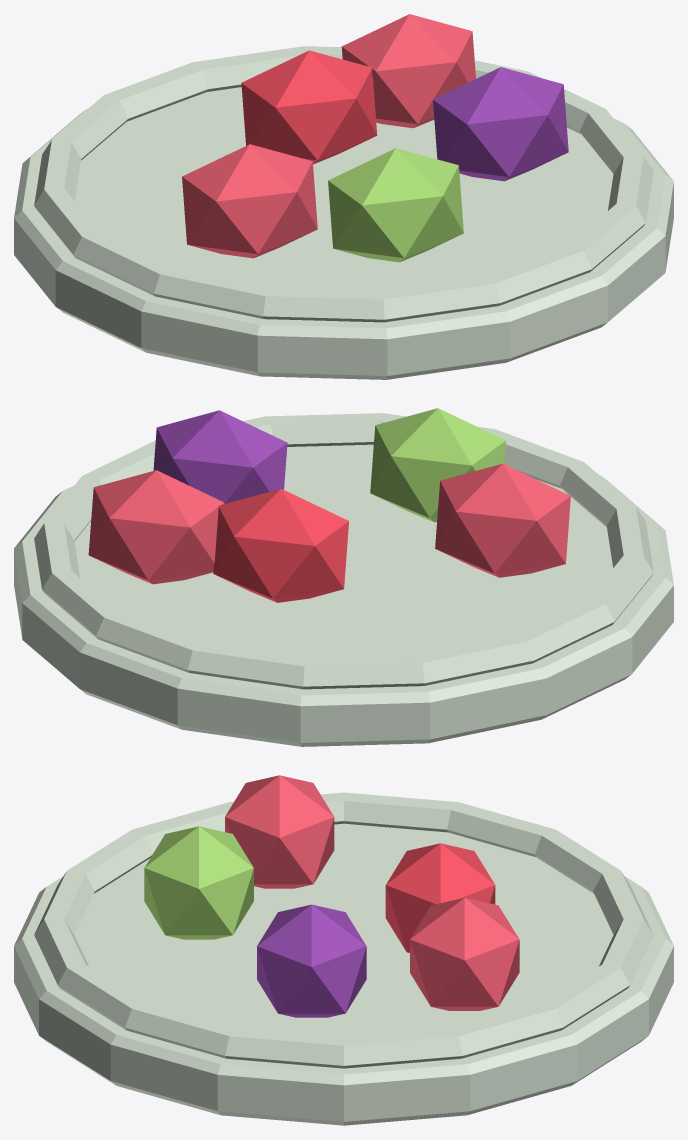
The model's file is summer_fruit_platter.glb.
3 renders of one model, top to bottom at view 1: azimuth 30°, elevation 25°; view 2: azimuth 150°, elevation 25°; view 3: azimuth 270°, elevation 25°, orthographic.
Visible parts, largest first — view 1: FTF_Dish_SummerFruitPlatter_StaticMesh; view 2: FTF_Dish_SummerFruitPlatter_StaticMesh; view 3: FTF_Dish_SummerFruitPlatter_StaticMesh.
Part boxes in pixels (<box>): FTF_Dish_SummerFruitPlatter_StaticMesh: <box>14,14,673,379</box>; FTF_Dish_SummerFruitPlatter_StaticMesh: <box>14,408,673,746</box>; FTF_Dish_SummerFruitPlatter_StaticMesh: <box>14,775,673,1125</box>.
Size of the model in its own units: 0.82 by 0.21 by 0.82.
